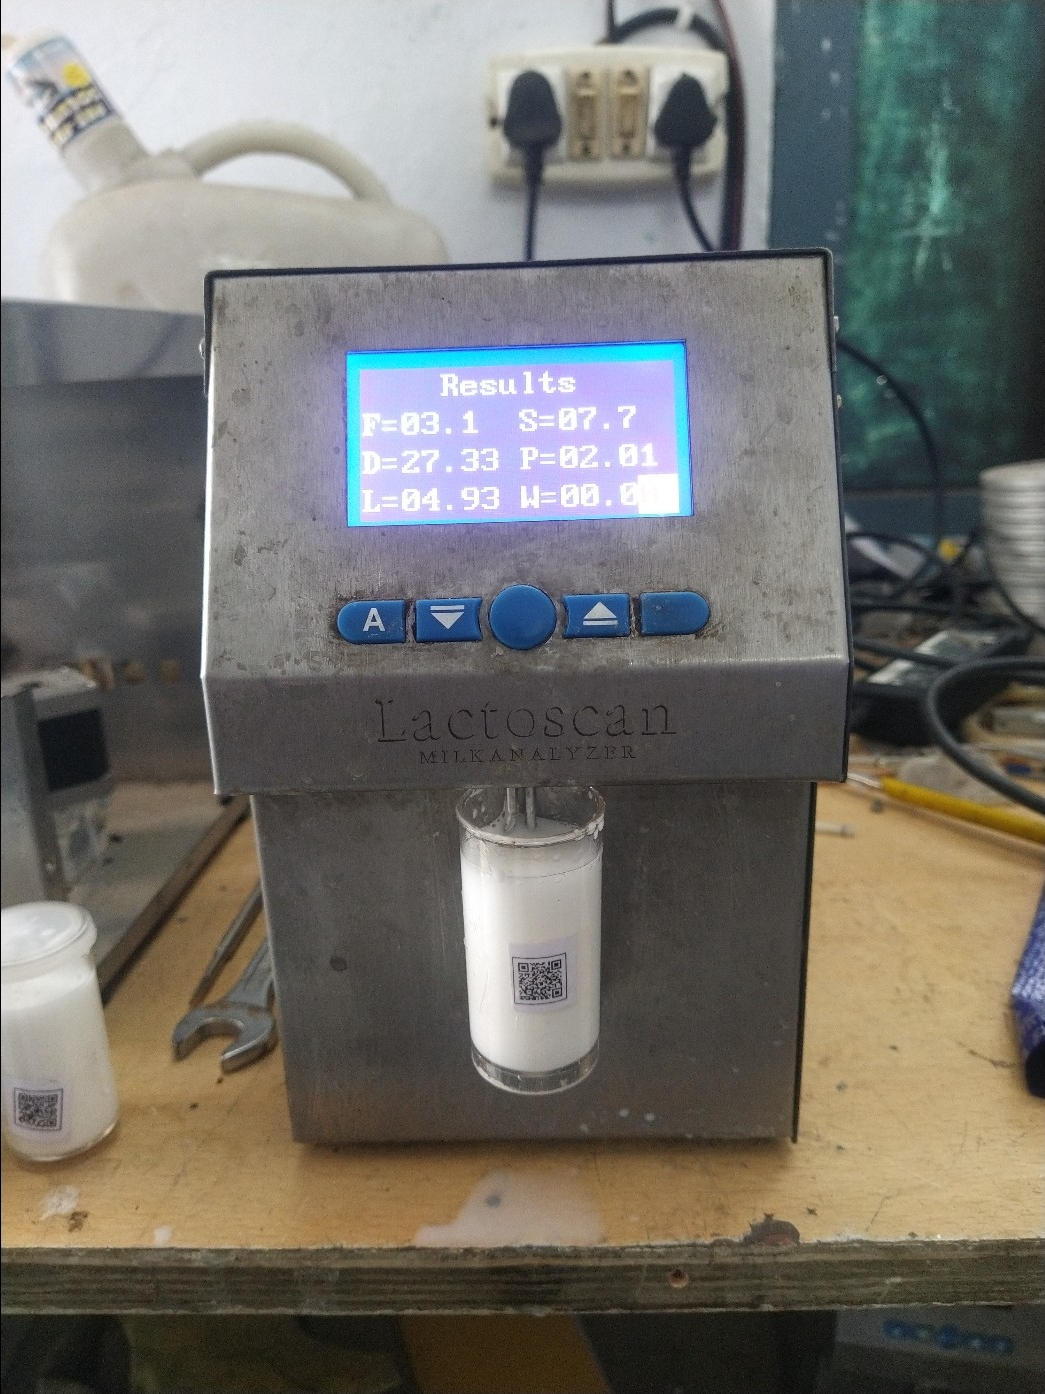lcd: (336, 341, 704, 541)
qr: (508, 945, 581, 1015), (8, 1081, 74, 1139)
